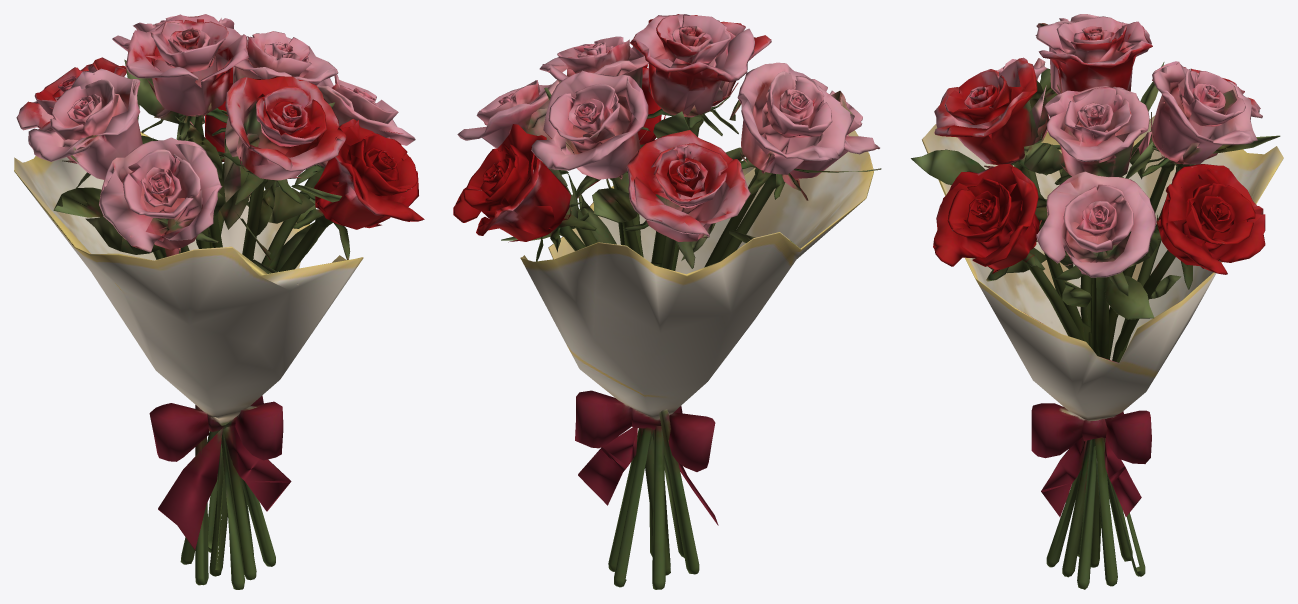
The model's file is royal-bouquet.glb.
3 views of the same model, side by side, from view 1: azimuth 30°, elevation 25°; view 2: azimuth 150°, elevation 25°; view 3: azimuth 270°, elevation 25° (orthographic). The views are drawn at different scales.
Parts seen in each view (by area): view 1: tripo_node_75f8d091-67f3-4dd1-83ae-12dc7c5fac2f; view 2: tripo_node_75f8d091-67f3-4dd1-83ae-12dc7c5fac2f; view 3: tripo_node_75f8d091-67f3-4dd1-83ae-12dc7c5fac2f.
Boxes of the visible parts, left/top/right/bottom form: tripo_node_75f8d091-67f3-4dd1-83ae-12dc7c5fac2f: left=14, top=14, right=424, bottom=589; tripo_node_75f8d091-67f3-4dd1-83ae-12dc7c5fac2f: left=453, top=14, right=881, bottom=589; tripo_node_75f8d091-67f3-4dd1-83ae-12dc7c5fac2f: left=911, top=14, right=1283, bottom=589.
Bounding box in the file's own units: 0.7207 × 0.998 × 0.6426.
Materials: 1 (1 with a texture image).
